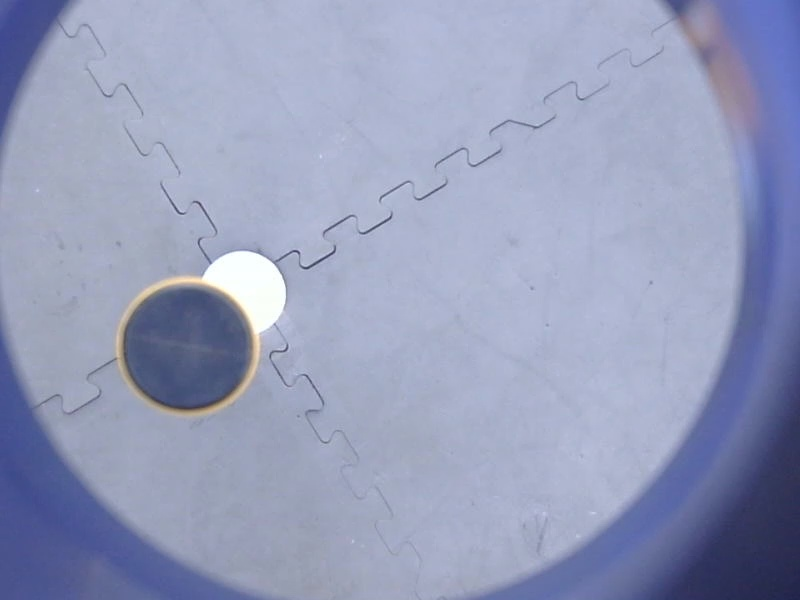tip: (107, 268, 268, 426)
